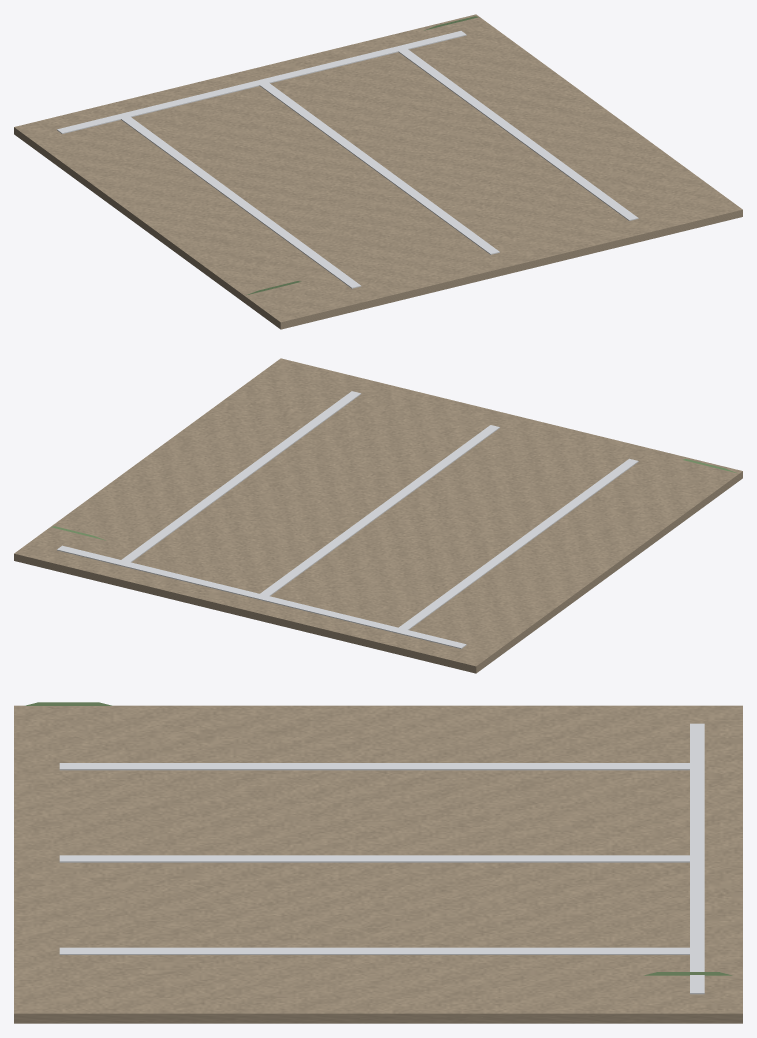
File: dog-agility-and-training-field-car-park-marking-tile-c0664d63__35595.glb
The picture shows the model from 3 angles, top to bottom: view 1: azimuth 30°, elevation 25°; view 2: azimuth 150°, elevation 25°; view 3: azimuth 270°, elevation 25°; orthographic projection. The views are drawn at different scales.
Parts seen in each view (by area): view 1: car-park-marking-tile-soil, car-park-marking-tile-steel; view 2: car-park-marking-tile-soil, car-park-marking-tile-steel; view 3: car-park-marking-tile-soil, car-park-marking-tile-steel, car-park-marking-tile-grass.
Boxes of the visible parts, x1=… form: car-park-marking-tile-soil: x1=14, y1=14, x2=742, y2=329; car-park-marking-tile-steel: x1=57, y1=31, x2=638, y2=288; car-park-marking-tile-soil: x1=14, y1=358, x2=742, y2=673; car-park-marking-tile-steel: x1=57, y1=391, x2=638, y2=648; car-park-marking-tile-soil: x1=14, y1=705, x2=742, y2=1023; car-park-marking-tile-steel: x1=59, y1=723, x2=704, y2=994; car-park-marking-tile-grass: x1=25, y1=702, x2=732, y2=975.
Bounding box in the file's own units: 4 × 0.1161 × 4.
3 materials, 1 textured.
